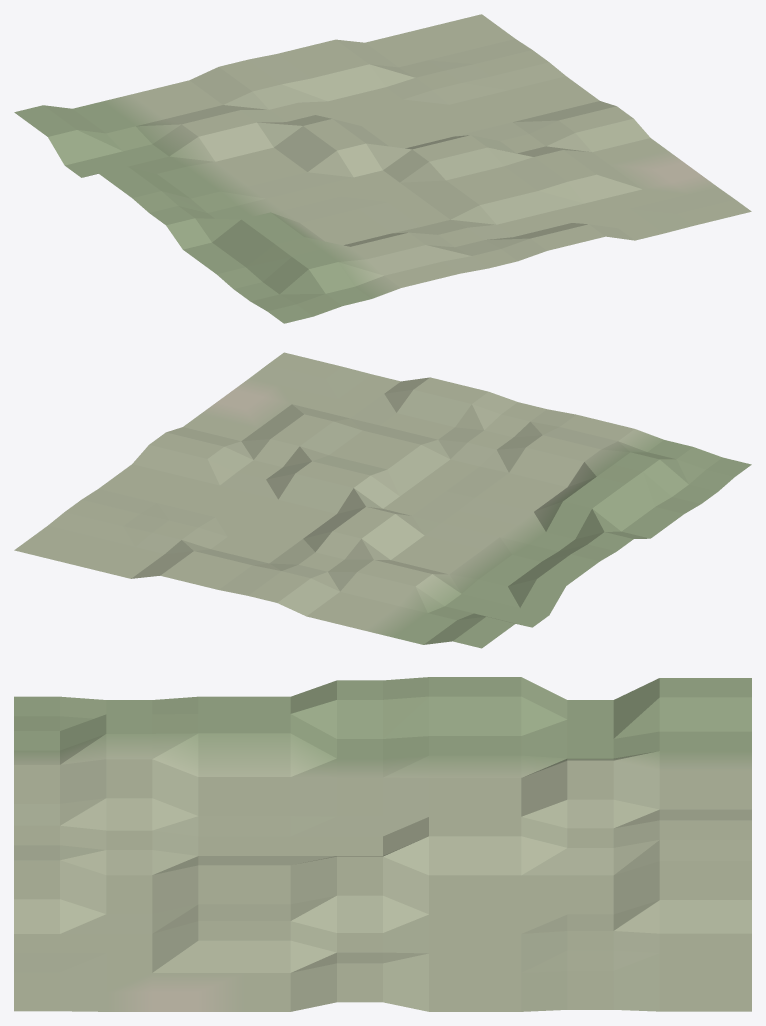
3 views of the same model, one above another, from view 1: azimuth 30°, elevation 25°; view 2: azimuth 150°, elevation 25°; view 3: azimuth 270°, elevation 25° (orthographic). The views are drawn at different scales.
Bounding box in the file's own units: 32 × 1.2 × 32.
